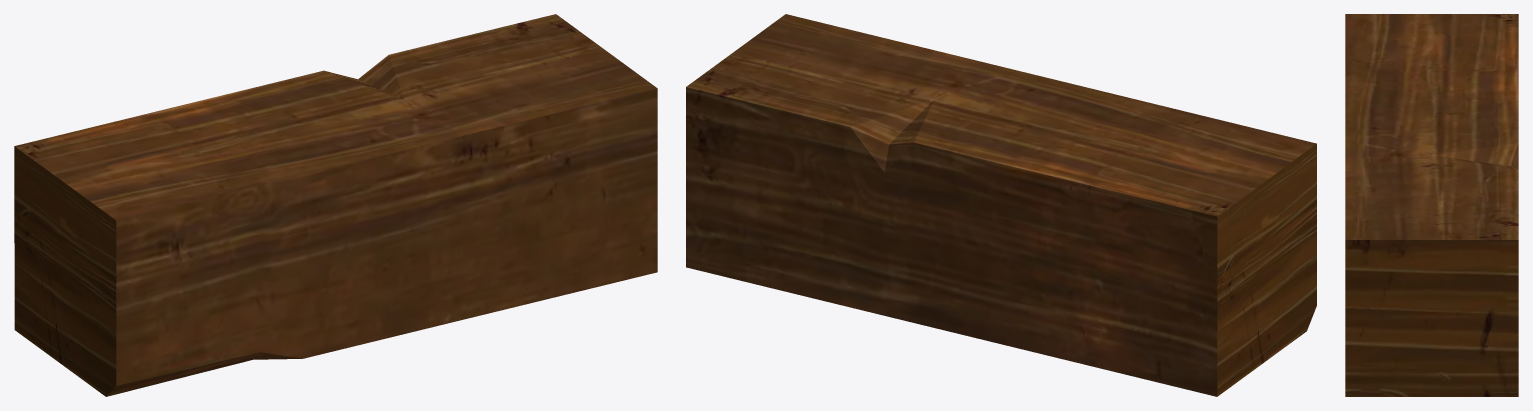
The picture shows the model from 3 angles, left to right: view 1: azimuth 30°, elevation 25°; view 2: azimuth 150°, elevation 25°; view 3: azimuth 270°, elevation 25°; orthographic projection. The views are drawn at different scales.
Visible parts, largest first — view 1: SM_BB_T2_Beam_Thick_Med_Horizontal_LOD0; view 2: SM_BB_T2_Beam_Thick_Med_Horizontal_LOD0; view 3: SM_BB_T2_Beam_Thick_Med_Horizontal_LOD0.
Boxes of the visible parts, x1,y1,x2,y2 form: SM_BB_T2_Beam_Thick_Med_Horizontal_LOD0: [14, 14, 657, 396]; SM_BB_T2_Beam_Thick_Med_Horizontal_LOD0: [686, 14, 1316, 396]; SM_BB_T2_Beam_Thick_Med_Horizontal_LOD0: [1345, 14, 1518, 396].
Bounding box in the file's own units: 1.5 × 0.4866 × 0.4874.
Materials: 1 (1 with a texture image).
